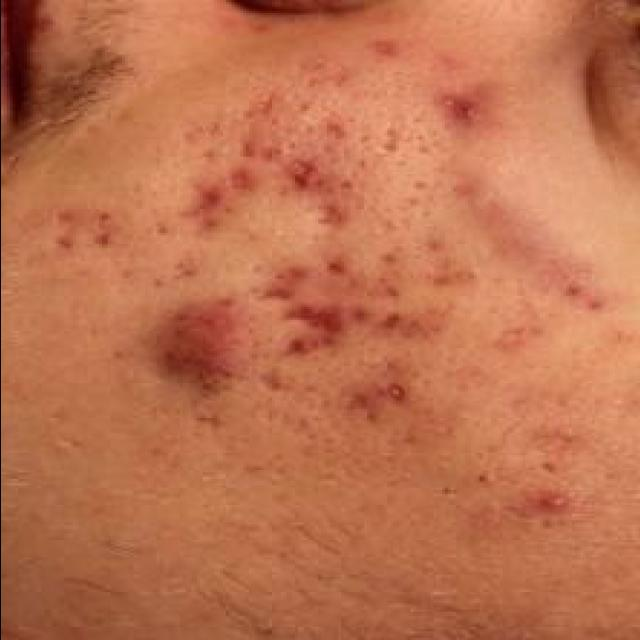Acne: (157, 294, 252, 390), (172, 168, 258, 240), (434, 80, 506, 144), (45, 204, 125, 256), (342, 375, 418, 425), (278, 305, 348, 359), (286, 154, 356, 198), (370, 308, 450, 344), (556, 275, 613, 318), (258, 262, 310, 306), (309, 200, 357, 238), (530, 484, 582, 518), (231, 134, 287, 164), (317, 252, 353, 282)
